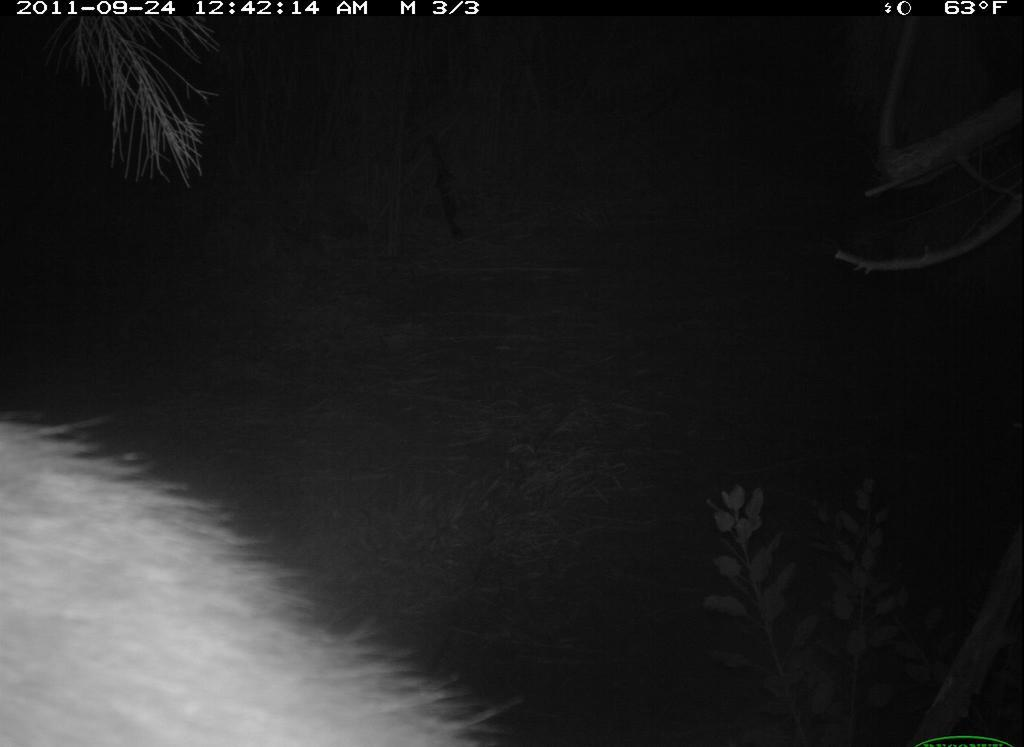raccoon: (2, 383, 528, 747)
